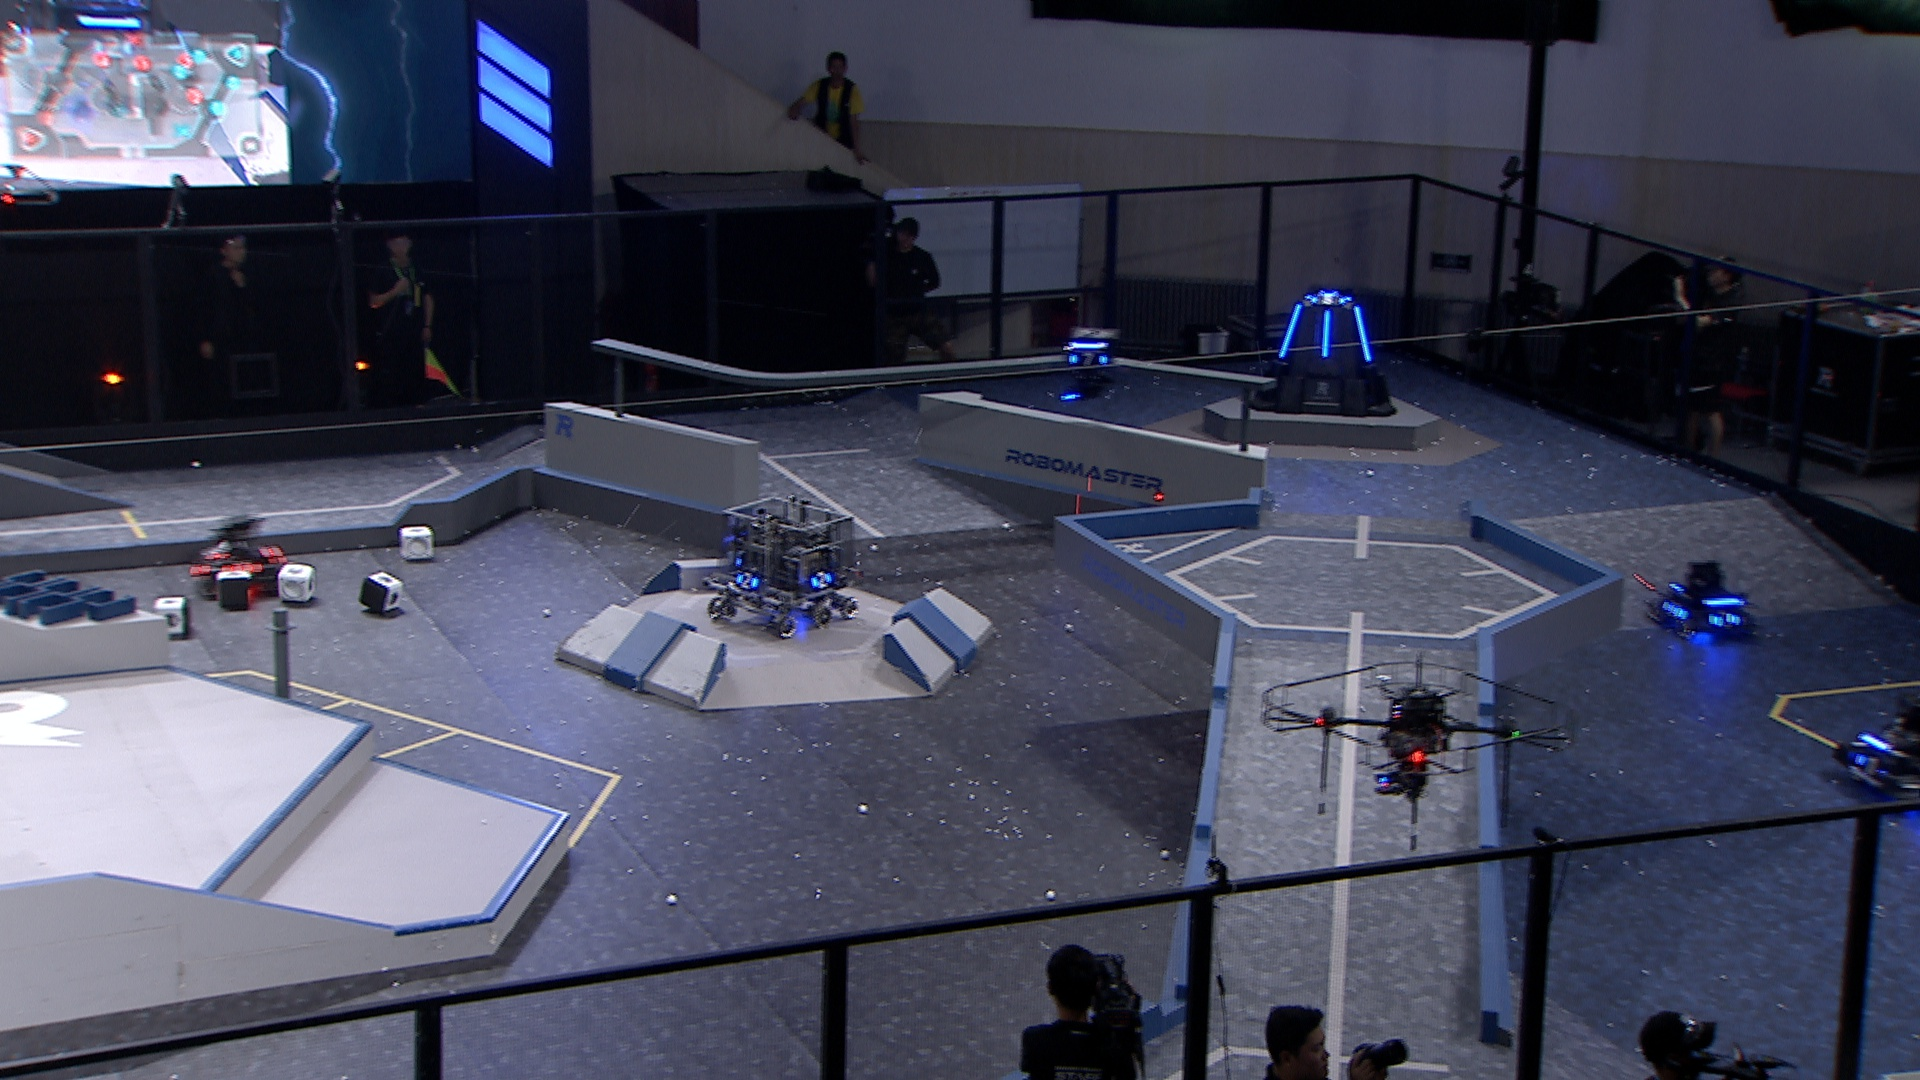armor: (1276, 302, 1304, 360), (1353, 309, 1379, 363), (1854, 752, 1888, 782), (1659, 600, 1695, 622), (1068, 352, 1112, 368), (1320, 310, 1335, 357), (224, 560, 262, 578), (200, 543, 229, 564), (807, 568, 835, 589), (1709, 611, 1741, 629), (1309, 294, 1349, 309), (736, 571, 761, 589)
base: (1237, 286, 1396, 418)
car: (694, 495, 865, 638), (1837, 683, 1920, 804), (1646, 559, 1762, 642), (190, 514, 294, 597)
watcher: (1054, 323, 1129, 407)
